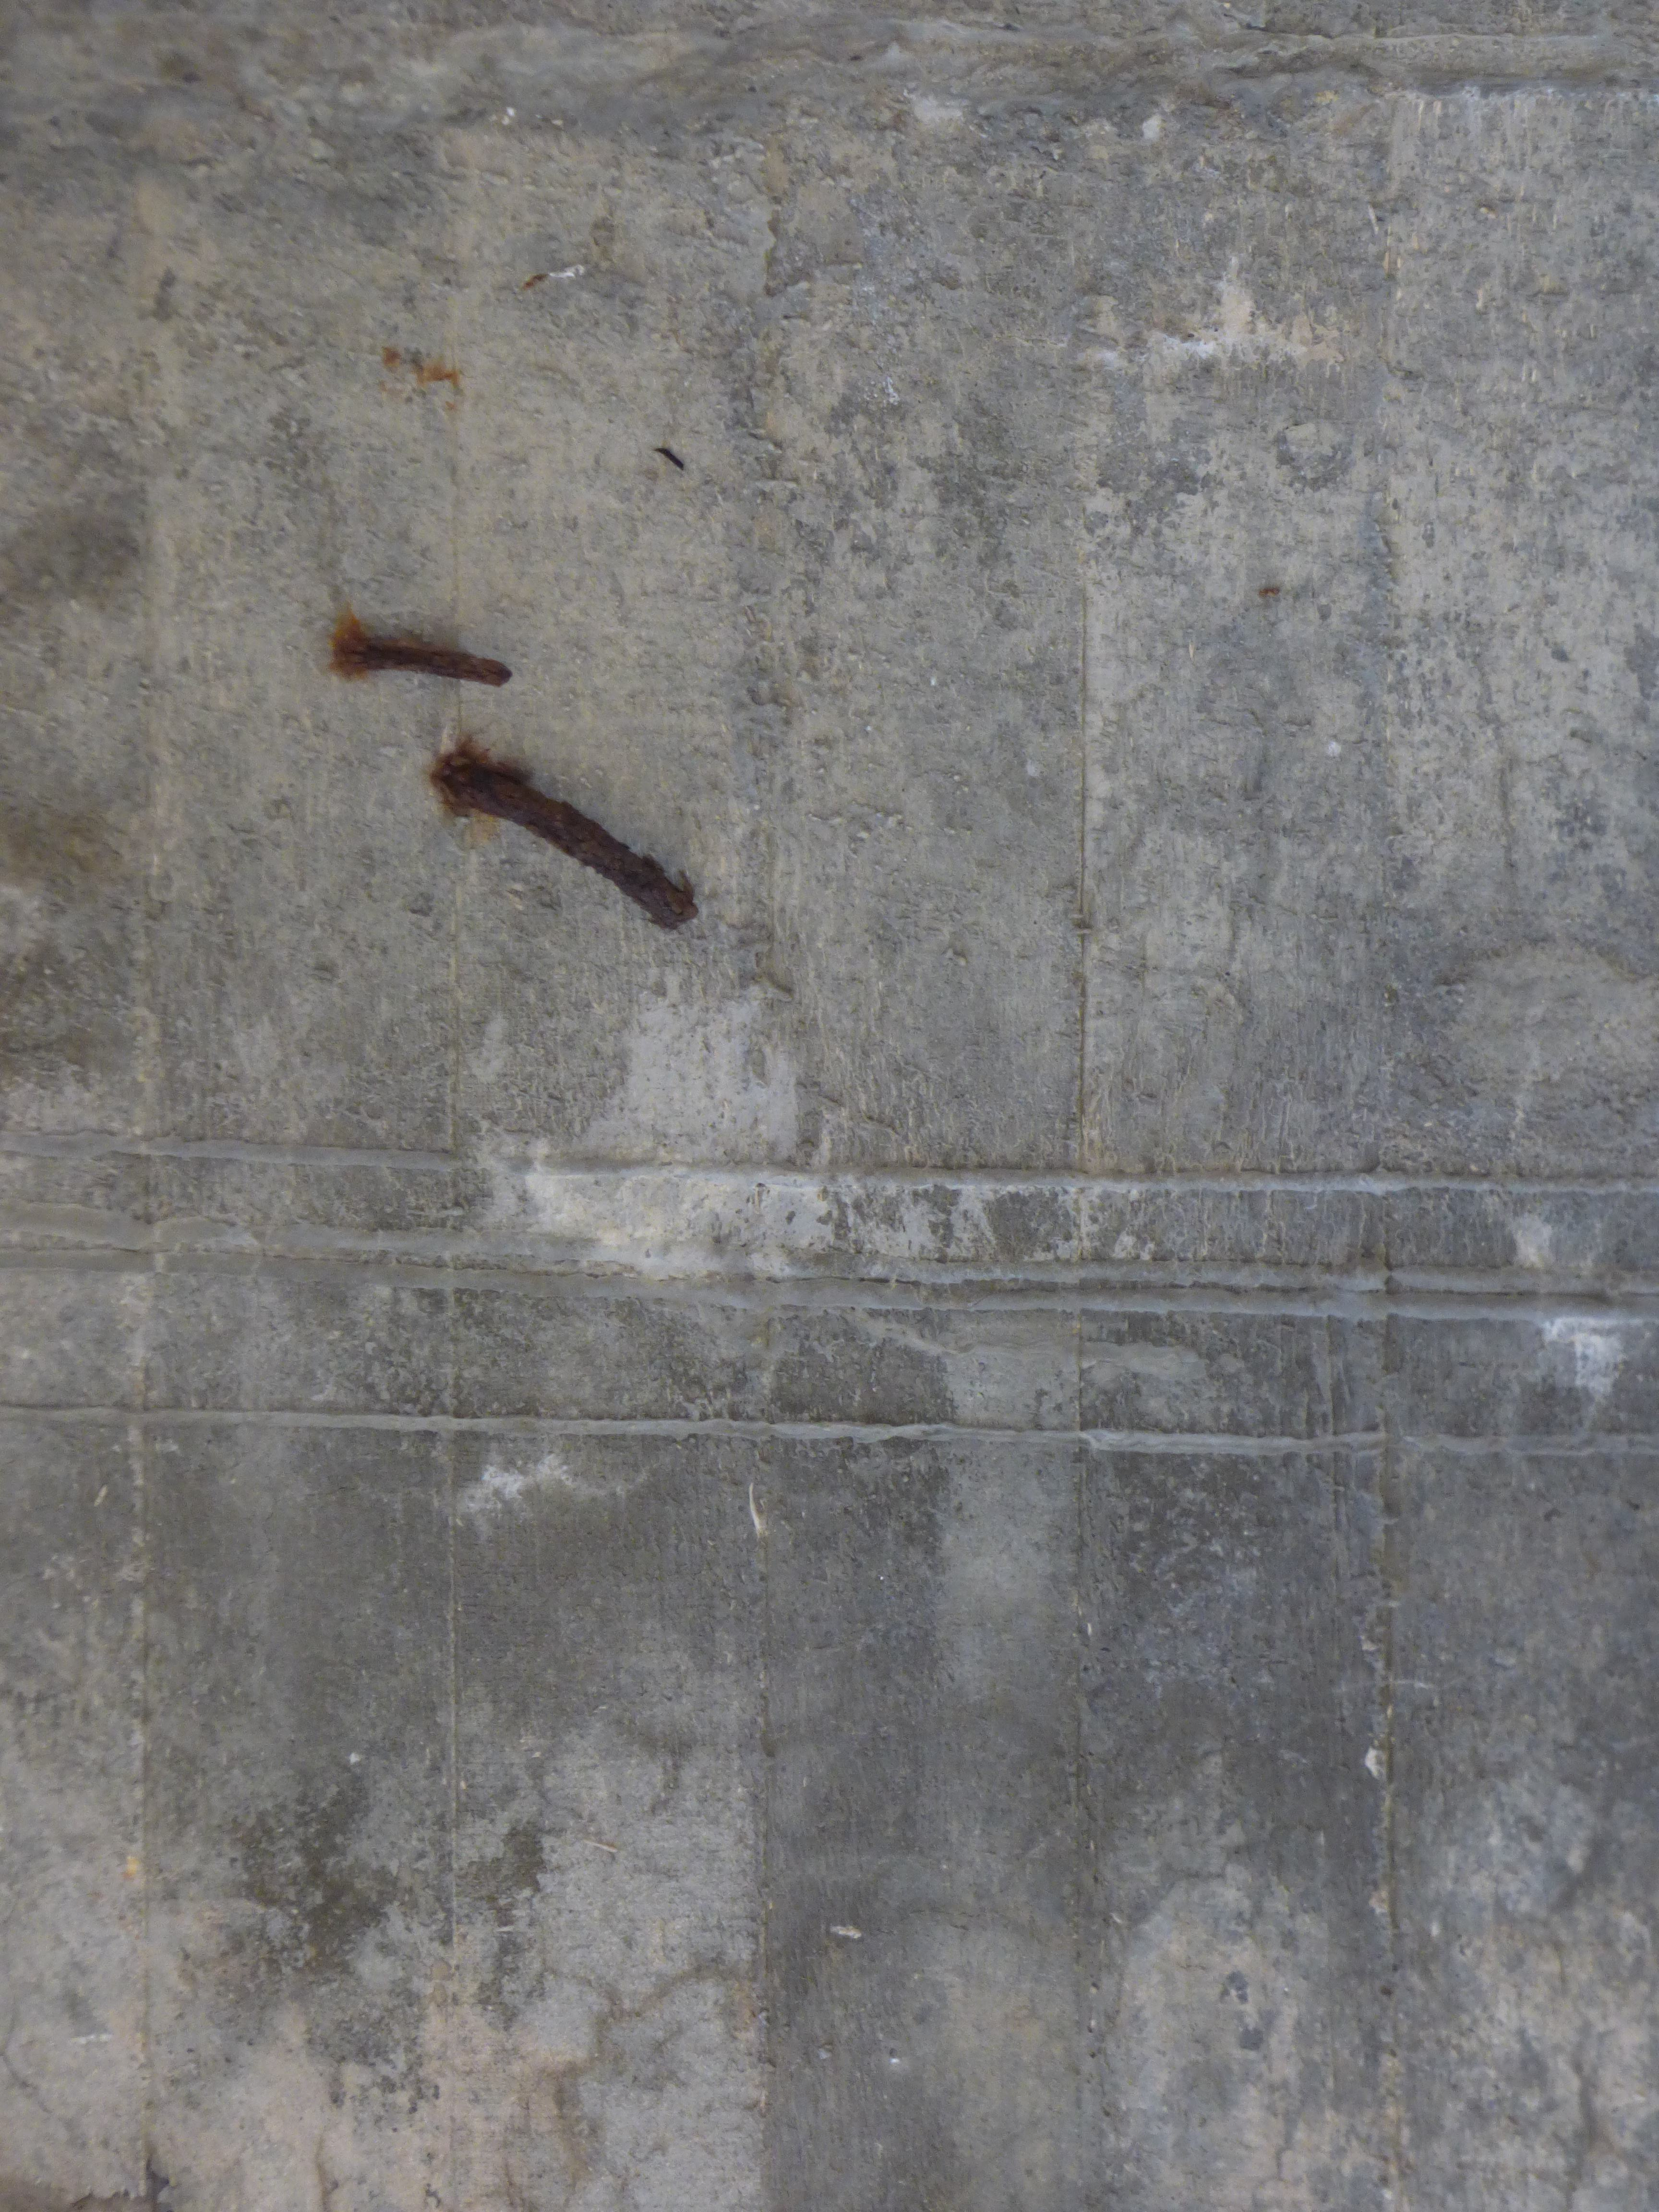Exposed reinforcement: (446, 765, 699, 932), (350, 643, 514, 688)
